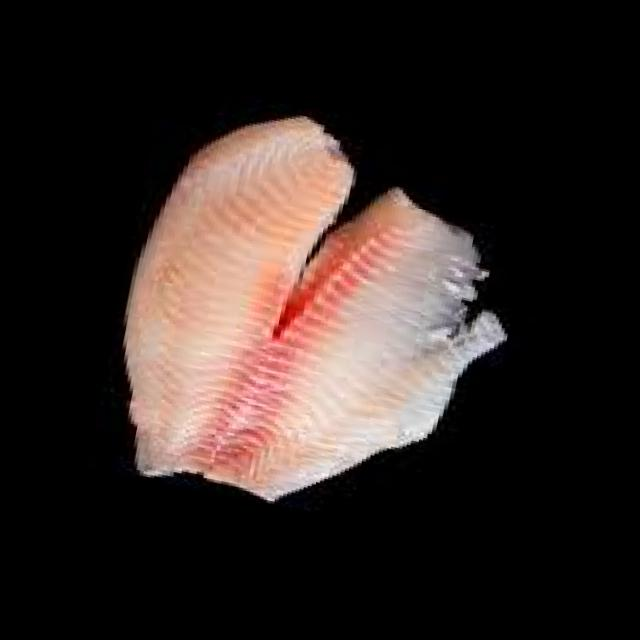Fish: (77, 83, 550, 561)
